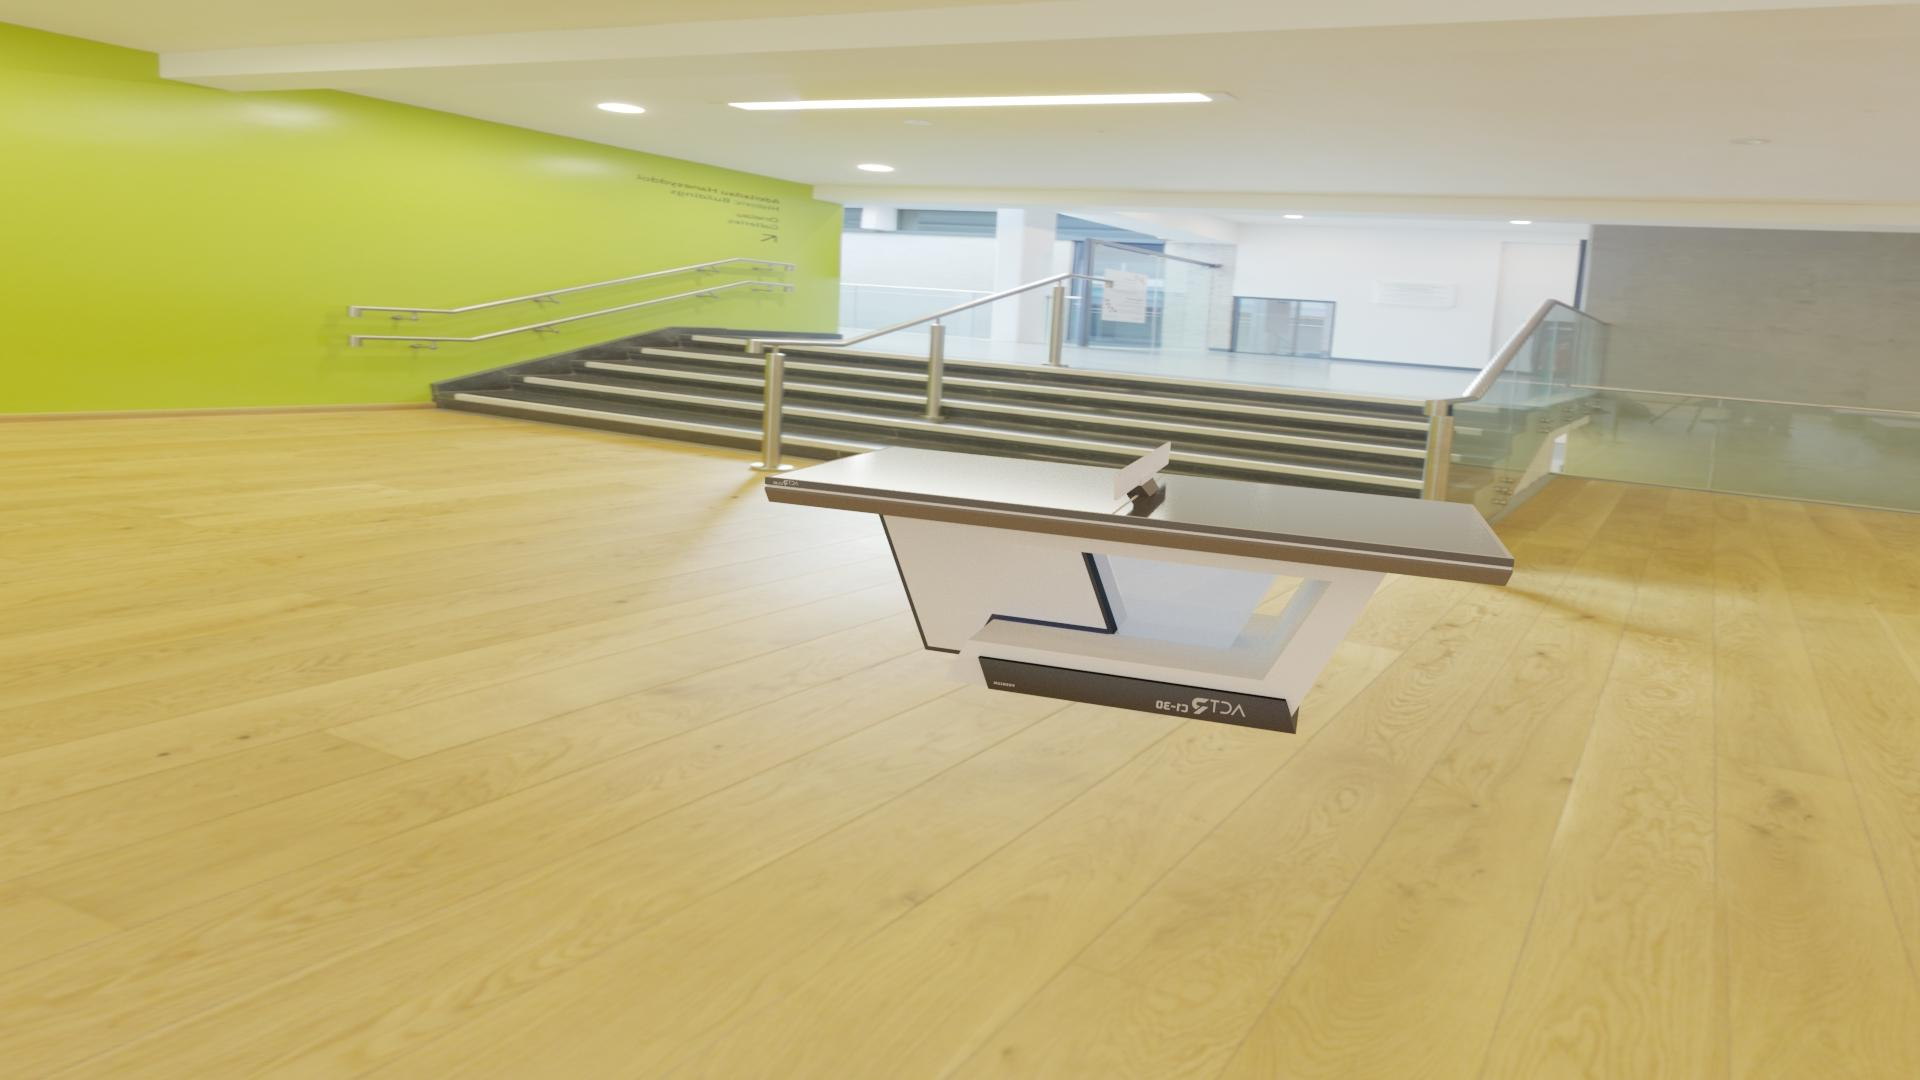table: (771, 447, 1507, 558)
